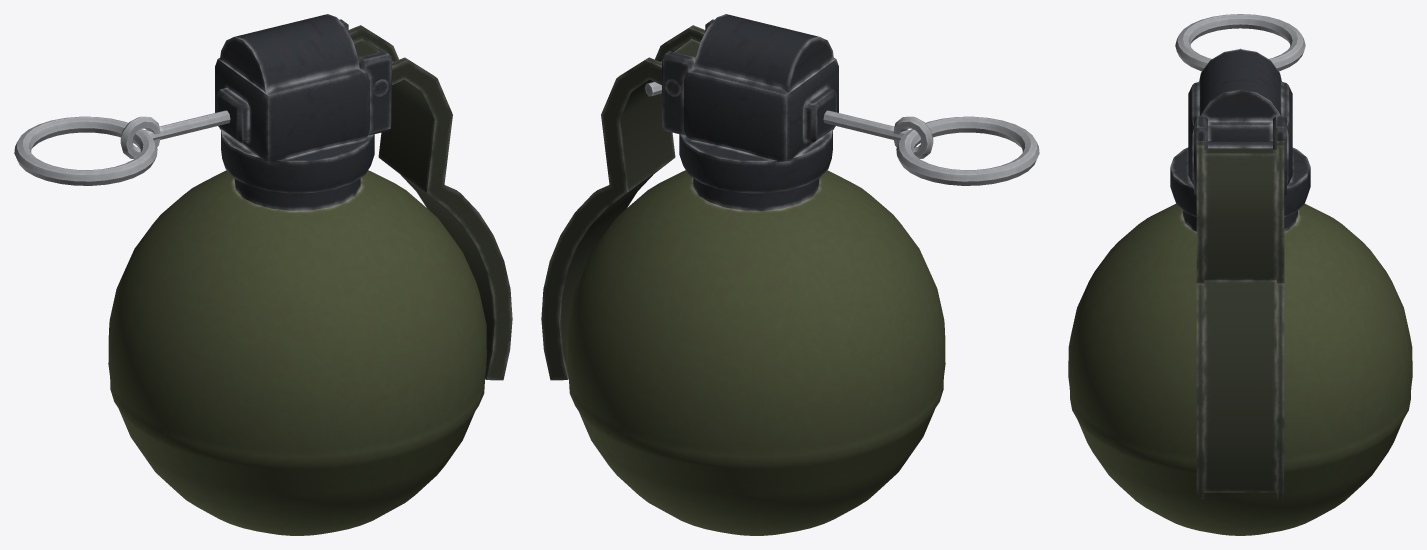
File: grenade_frag.glb
3 renders of one model, left to right at view 1: azimuth 30°, elevation 25°; view 2: azimuth 150°, elevation 25°; view 3: azimuth 270°, elevation 25°, orthographic. The views are drawn at different scales.
Visible parts, largest first — view 1: GrenadeFrag, spoon, pin; view 2: GrenadeFrag, spoon, pin; view 3: GrenadeFrag, spoon, pin.
Part boxes in pixels (<box>): GrenadeFrag: <box>108,14,486,535</box>; spoon: <box>348,25,512,380</box>; pin: <box>14,110,230,185</box>; GrenadeFrag: <box>567,14,945,535</box>; spoon: <box>541,25,705,380</box>; pin: <box>645,82,1039,185</box>; GrenadeFrag: <box>1068,49,1412,535</box>; spoon: <box>1196,141,1284,499</box>; pin: <box>1175,14,1305,71</box>.
Bounding box in the file's own units: 0.0889 × 0.0899 × 0.0628.
1 material, 1 textured.
